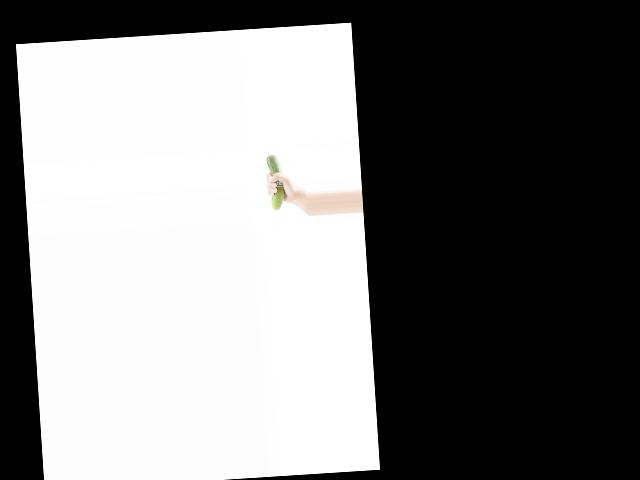cucumber: (265, 154, 285, 210)
